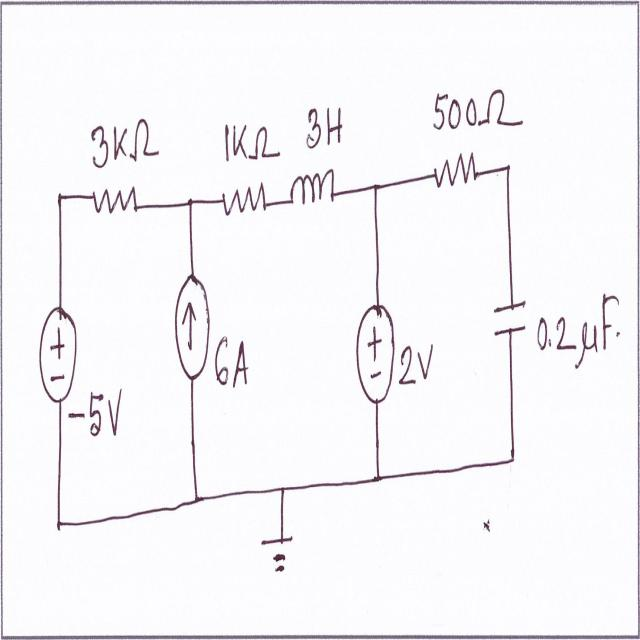capacitor: (491, 292, 535, 350)
current_source: (173, 273, 211, 386)
ground: (252, 527, 308, 593)
resistor: (83, 173, 150, 219), (427, 144, 482, 198), (284, 162, 340, 208), (218, 181, 272, 226)
voltage_source: (34, 290, 81, 416), (355, 296, 399, 416)
